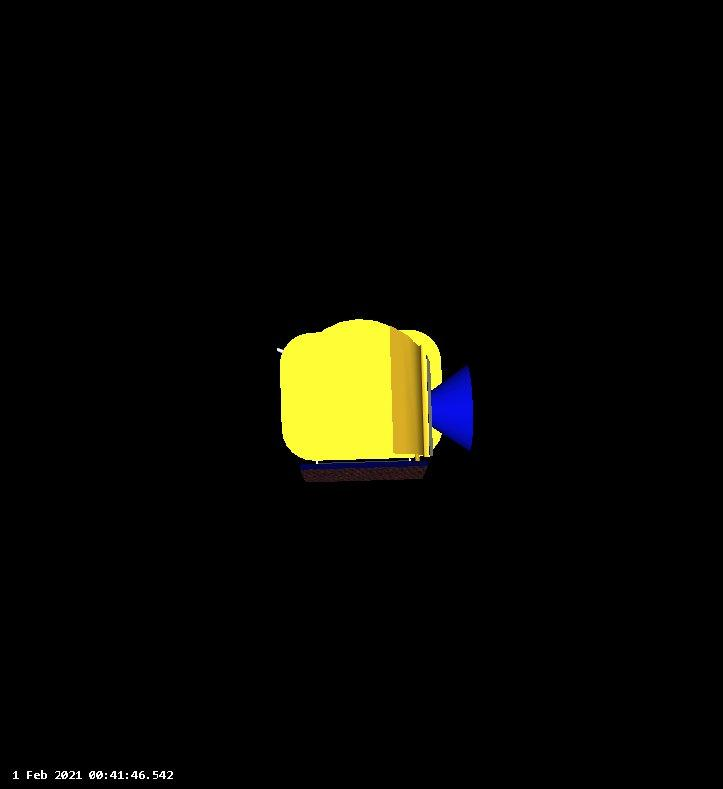body: (280, 318, 444, 459)
solar: (296, 458, 428, 483)
thruster: (427, 363, 476, 456)
